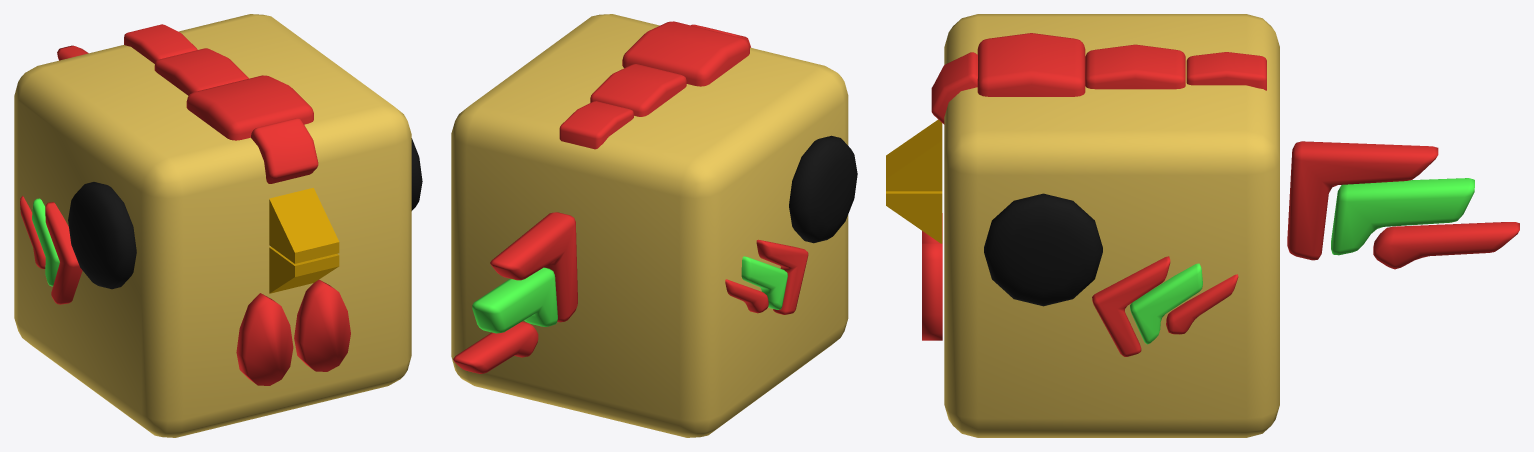
Rendered from Chiken.fbx.
3 views of the same model, side by side, from view 1: azimuth 30°, elevation 25°; view 2: azimuth 150°, elevation 25°; view 3: azimuth 270°, elevation 25° (orthographic). The views are drawn at different scales.
Parts seen in each view (by area): view 1: Chiken; view 2: Chiken; view 3: Chiken.
Boxes of the visible parts, x1=… form: Chiken: x1=14, y1=14, x2=422, y2=437; Chiken: x1=451, y1=14, x2=857, y2=437; Chiken: x1=886, y1=14, x2=1519, y2=437.
Bounding box in the file's own units: 119 × 107 × 189.
